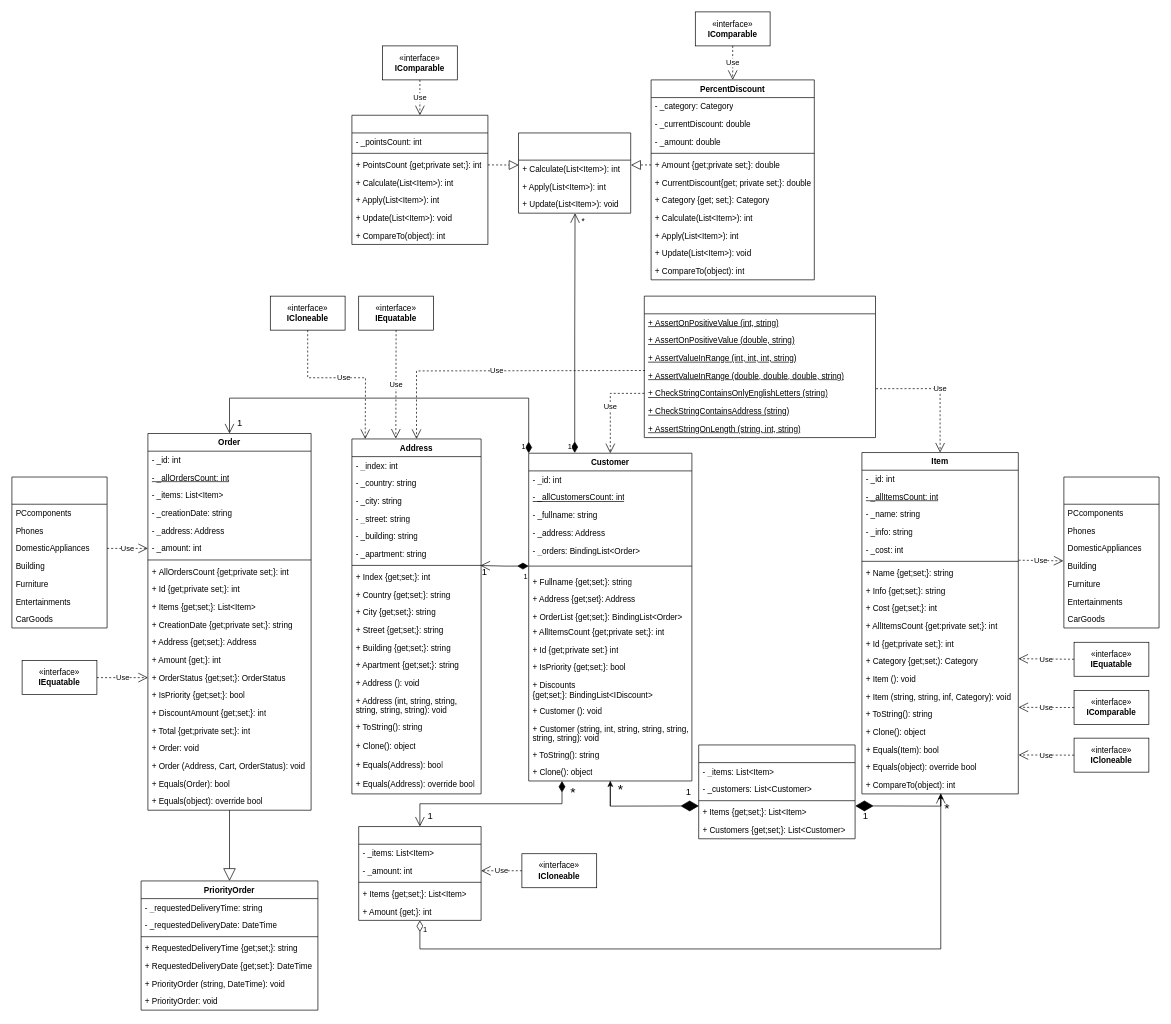
Image size: 1171x1024. Some labels were removed from this diagram. Here are the shapes that lost their labels. From the top down, the box of each, then its label:
(351, 115, 488, 244): PointsDiscount
(518, 132, 631, 213): «interface» IDiscount
(644, 295, 876, 438): Validator
(11, 476, 107, 628): «enumeration» OrderStatus
(1063, 476, 1159, 628): «enumeration» Category
(698, 744, 855, 839): Store
(358, 826, 481, 920): Cart
